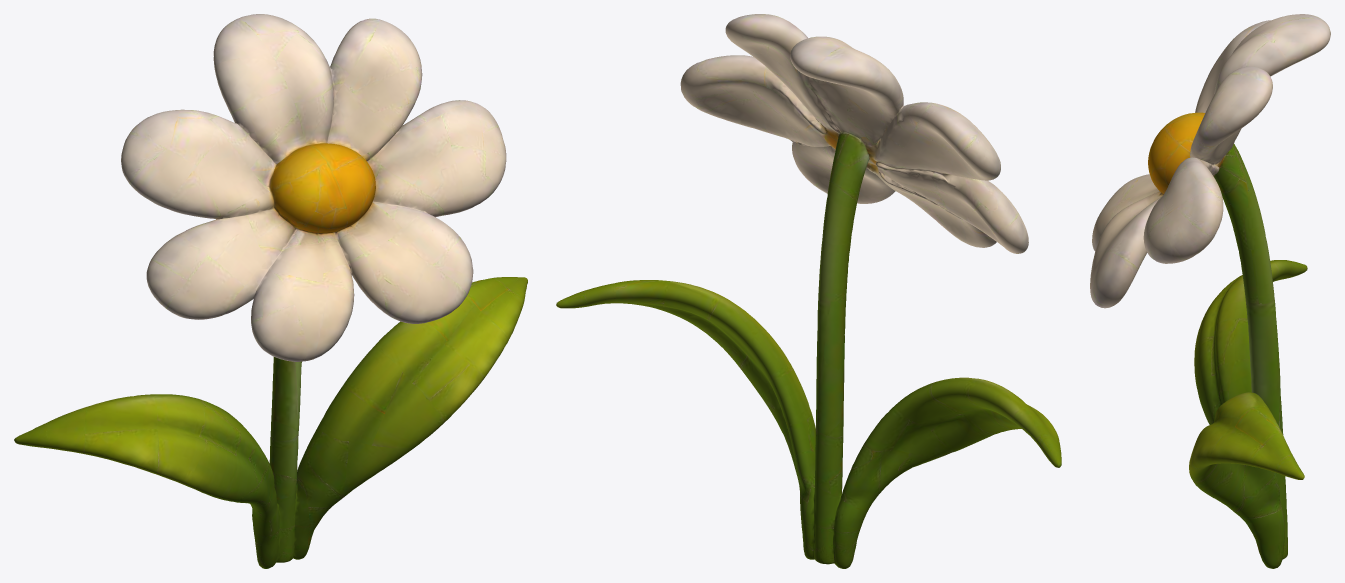
The picture shows the model from 3 angles, left to right: view 1: azimuth 30°, elevation 25°; view 2: azimuth 150°, elevation 25°; view 3: azimuth 270°, elevation 25°; orthographic projection.
Visible parts, largest first — view 1: mesh_node; view 2: mesh_node; view 3: mesh_node.
Part boxes in pixels (box(x1,y1,x2,y2)): mesh_node: box(14, 14, 527, 568); mesh_node: box(556, 14, 1061, 568); mesh_node: box(1090, 14, 1330, 568).
Size of the model in its own units: 1.9 by 1.9 by 0.7771.
Materials: 1 (1 with a texture image).
